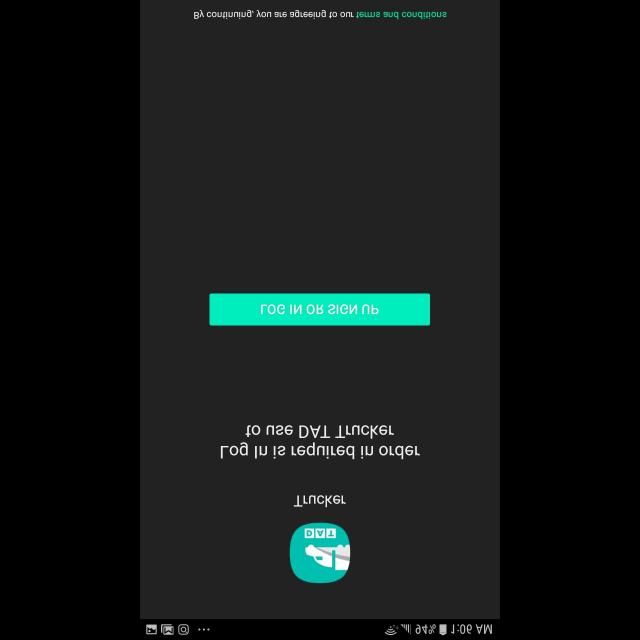image: (290, 522, 350, 582)
text: (220, 424, 420, 460), (194, 10, 446, 20), (294, 494, 346, 508)
textbutton: (210, 294, 430, 326)
uppertaskbar: (140, 618, 500, 640)
